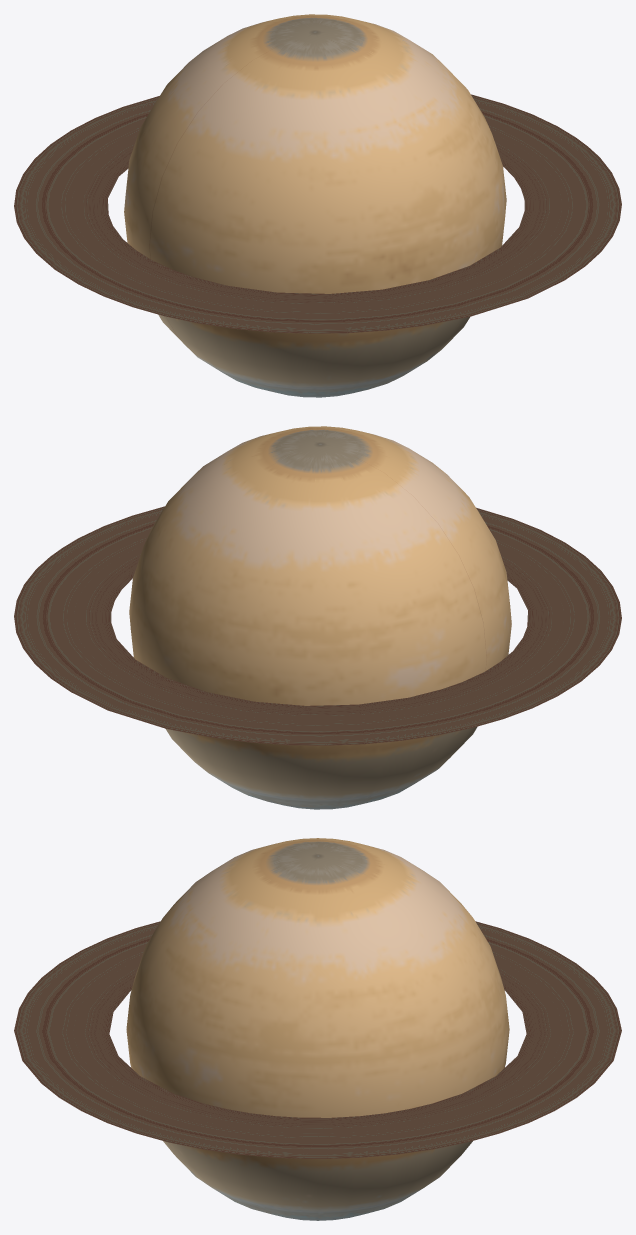
File: 07_node_SATURN_0.fbx
3 views of the same model, one above another, from view 1: azimuth 30°, elevation 25°; view 2: azimuth 150°, elevation 25°; view 3: azimuth 270°, elevation 25° (orthographic).
Visible parts, largest first — view 1: 07_node_SATURN_0; view 2: 07_node_SATURN_0; view 3: 07_node_SATURN_0.
Part boxes in pixels (x1,y1,x2,y2): 07_node_SATURN_0: (14, 14, 621, 397); 07_node_SATURN_0: (14, 426, 621, 809); 07_node_SATURN_0: (14, 838, 621, 1220).
Size of the model in its own units: 131 by 83 by 132.
